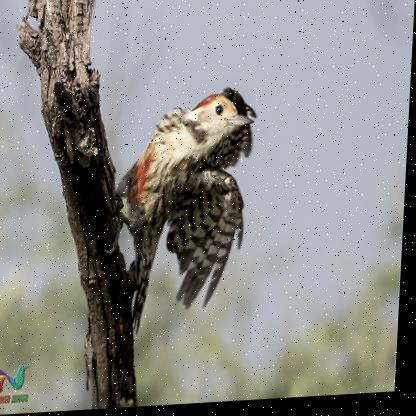Burung: (106, 88, 260, 336)
